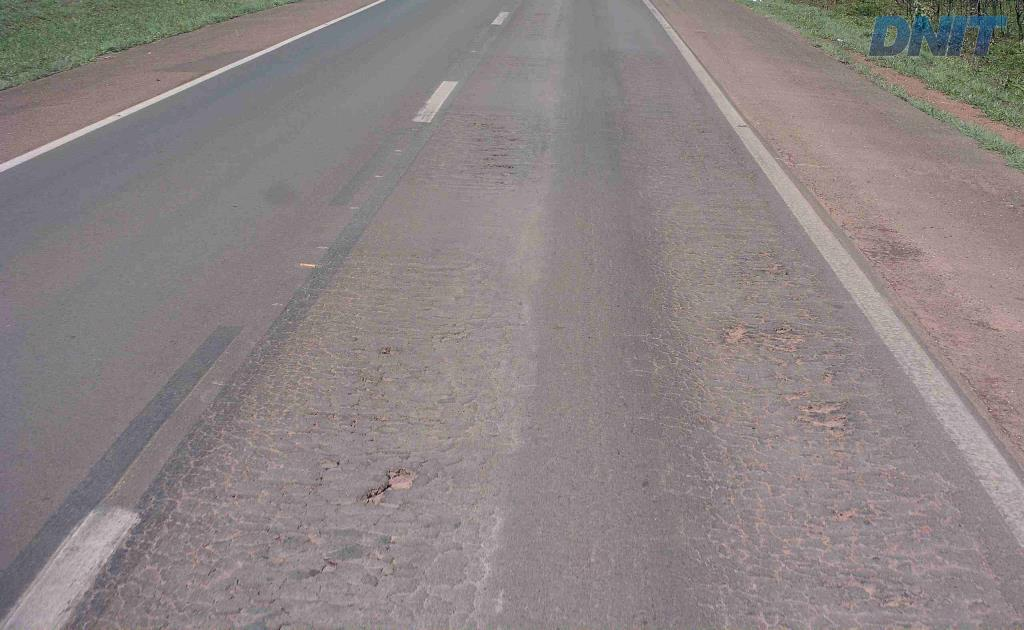crack: (650, 315, 701, 368), (355, 465, 410, 506), (734, 320, 816, 347), (652, 364, 696, 409), (669, 404, 707, 444)
pothole: (778, 385, 860, 433), (719, 317, 808, 357), (359, 462, 417, 508)
